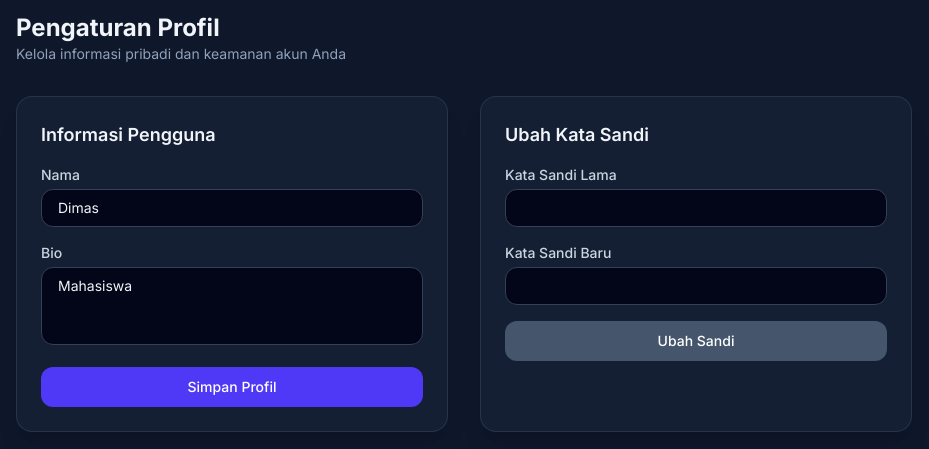
ProfilePage › memakai pesan default saat error sandi tanpa message
The width and height of the screenshot is (929, 449).
Type "x" into the password field labelled "Kata Sandi Lama" at (696, 208), box [505,189,887,227]
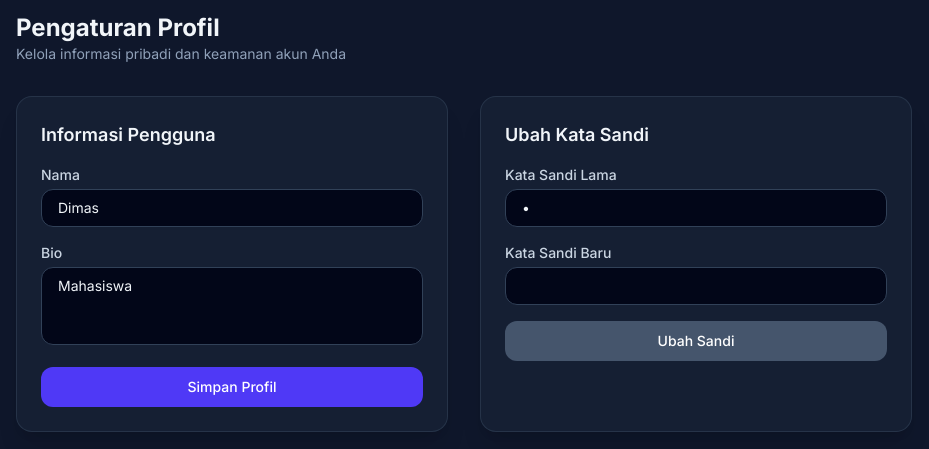
Type "y" into the password field labelled "Kata Sandi Baru" at (696, 286), box [505,267,887,305]
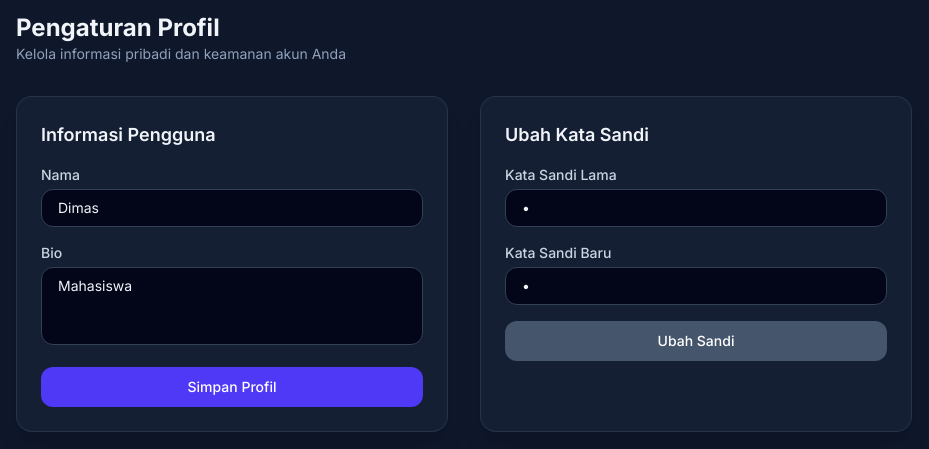
Click the button "Ubah Sandi" at (696, 341), box [505,321,887,361]
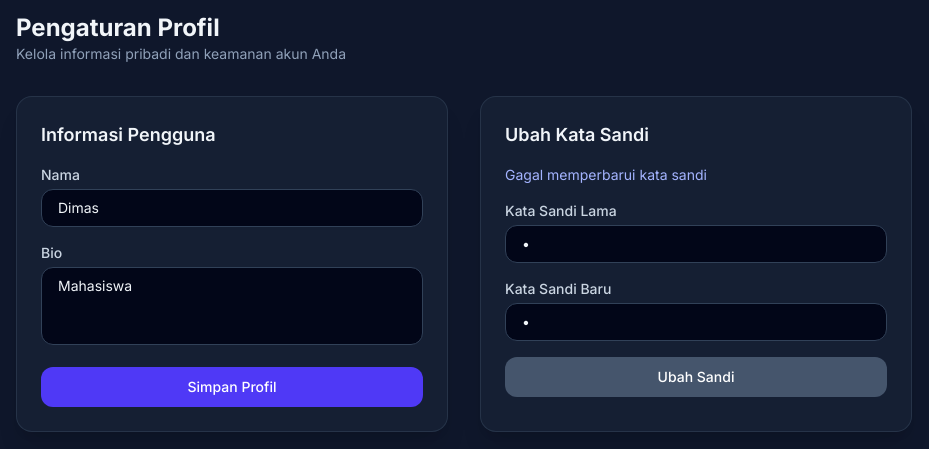
expect the text "Gagal memperbarui kata sandi" is shown: met, box [505,166,707,183]
